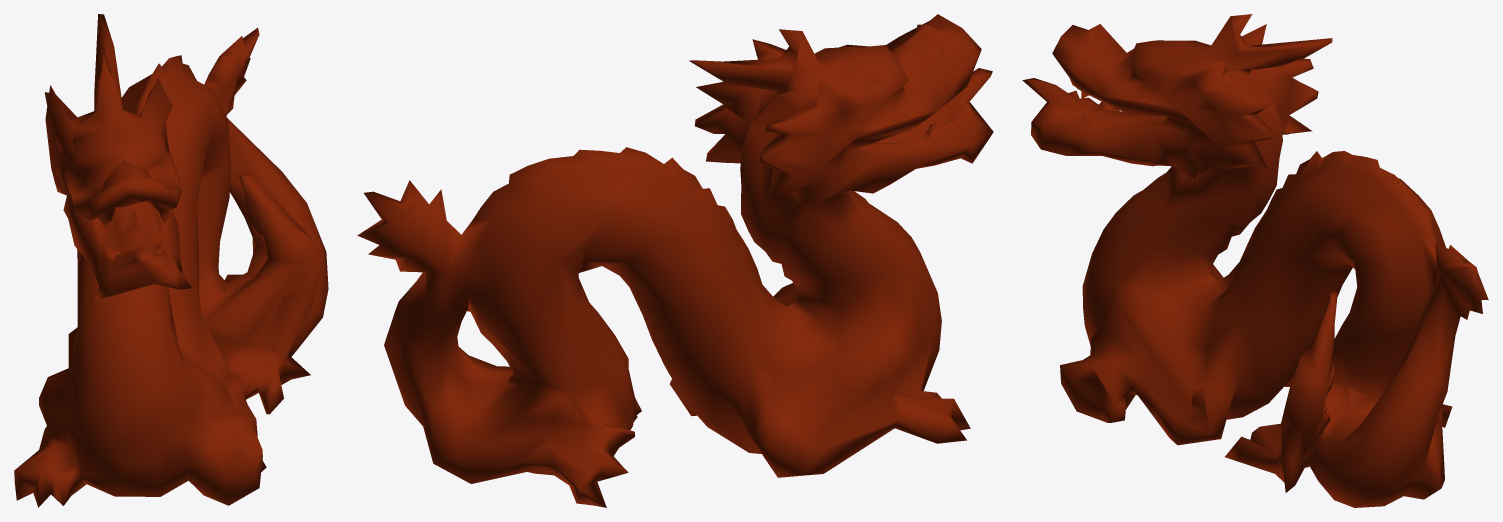
The model's file is 2k_dragon.obj.
3 views of the same model, side by side, from view 1: azimuth 30°, elevation 25°; view 2: azimuth 150°, elevation 25°; view 3: azimuth 270°, elevation 25° (orthographic). The views are drawn at different scales.
Visible parts, largest first — view 1: dragon; view 2: dragon; view 3: dragon.
Boxes of the visible parts, x1,y1,x2,y2 form: dragon: [14, 14, 328, 507]; dragon: [357, 14, 993, 507]; dragon: [1022, 14, 1488, 507].
Size of the model in its own units: 1.09 by 0.9978 by 1.1.
